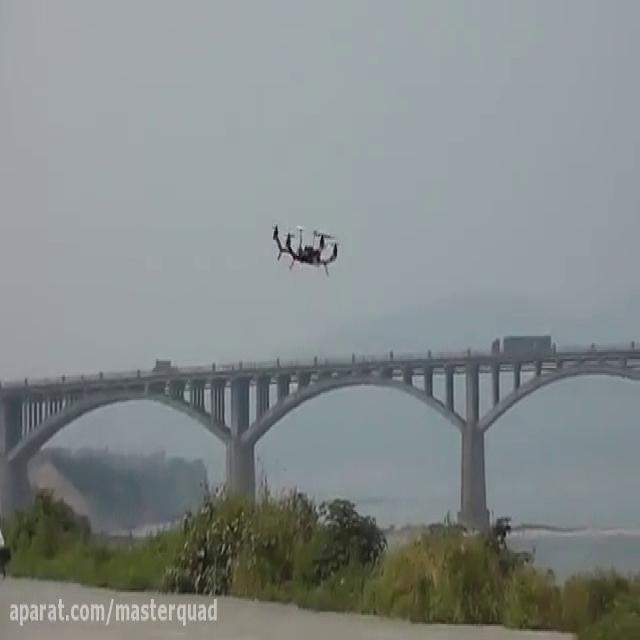drone: (268, 215, 342, 279)
